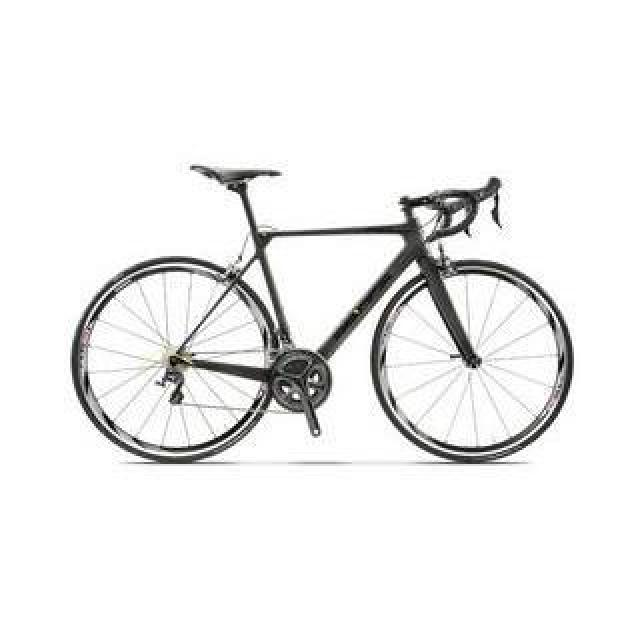Person: (65, 155, 583, 469)
